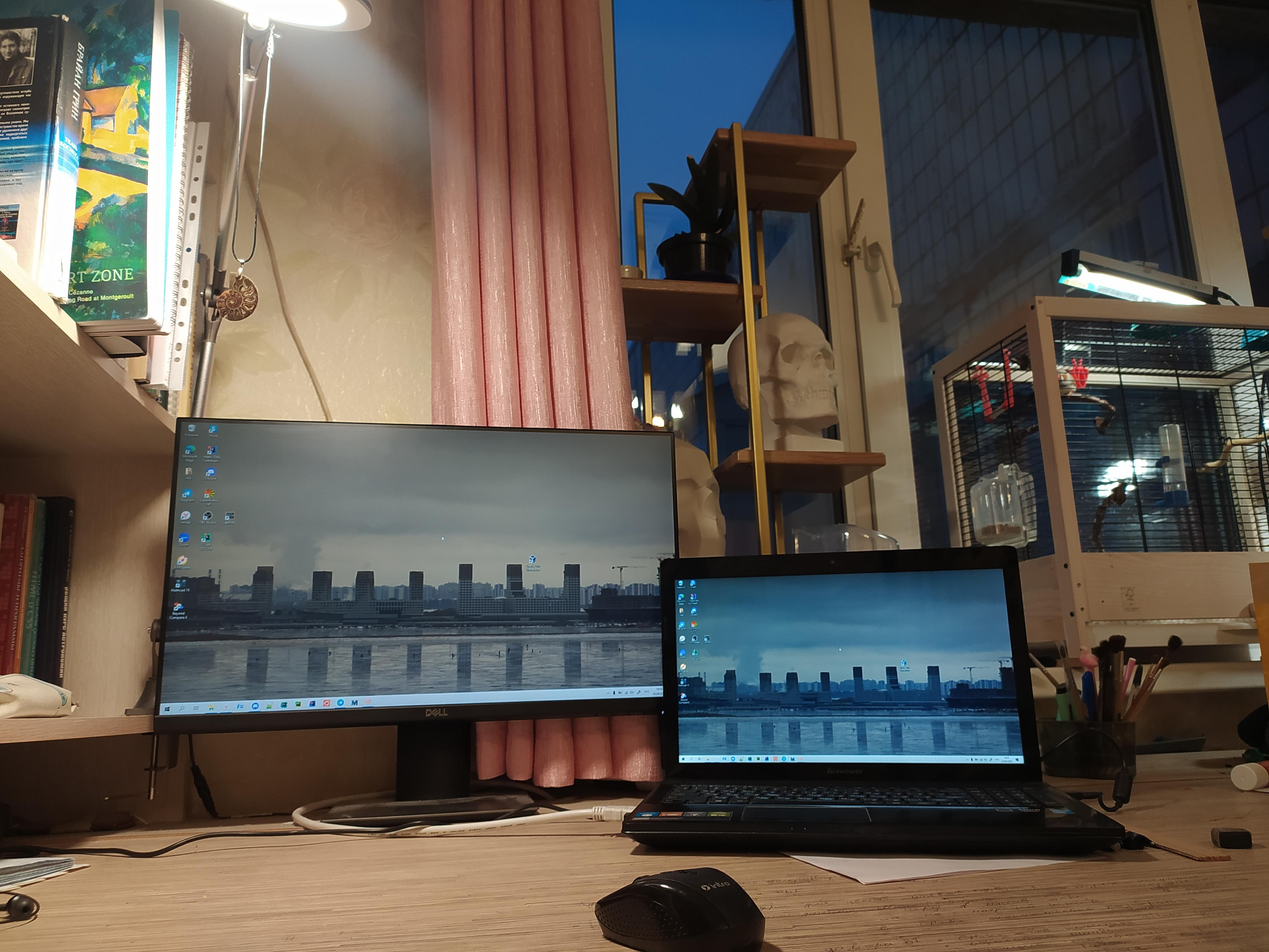monitor: (152, 414, 687, 724), (659, 544, 1045, 782)
